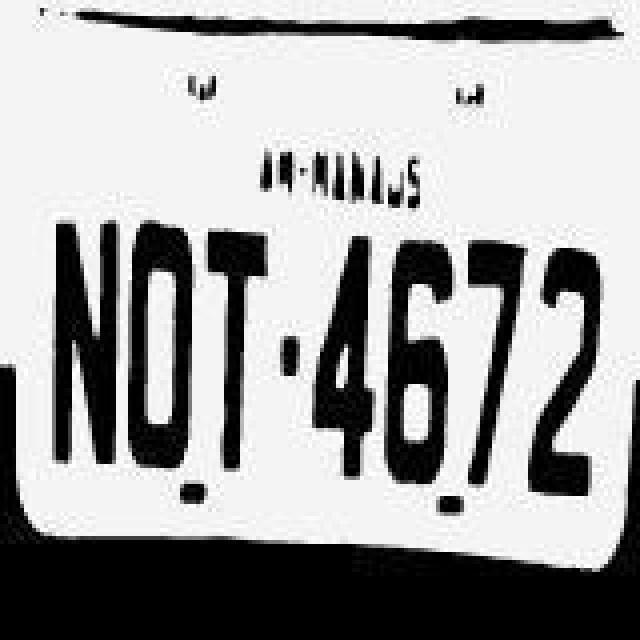2: (528, 242, 608, 510)
4: (308, 222, 380, 482)
6: (374, 234, 458, 494)
7: (462, 230, 530, 490)
N: (48, 206, 128, 474)
O: (124, 216, 204, 472)
T: (206, 228, 274, 476)
